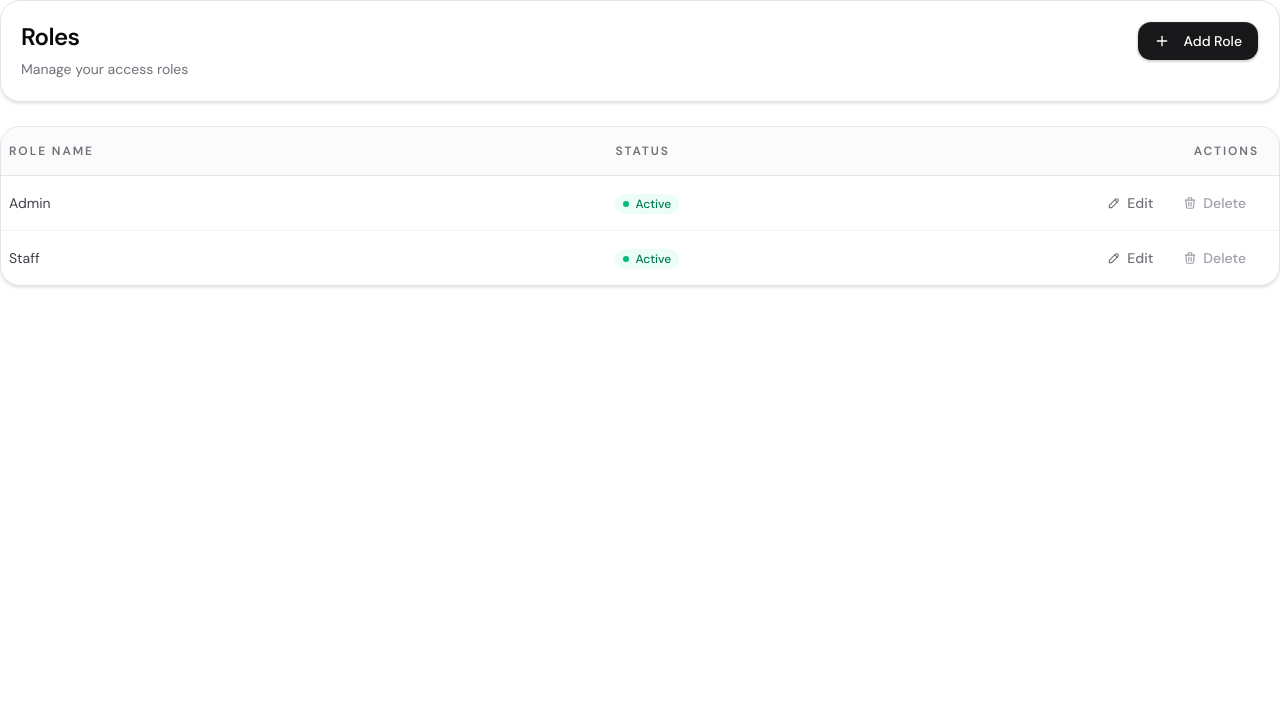
RolesModule › opens create dialog on "Add Role" click
Click the button "Add Role": (1198, 41) [1137, 21, 1259, 61]
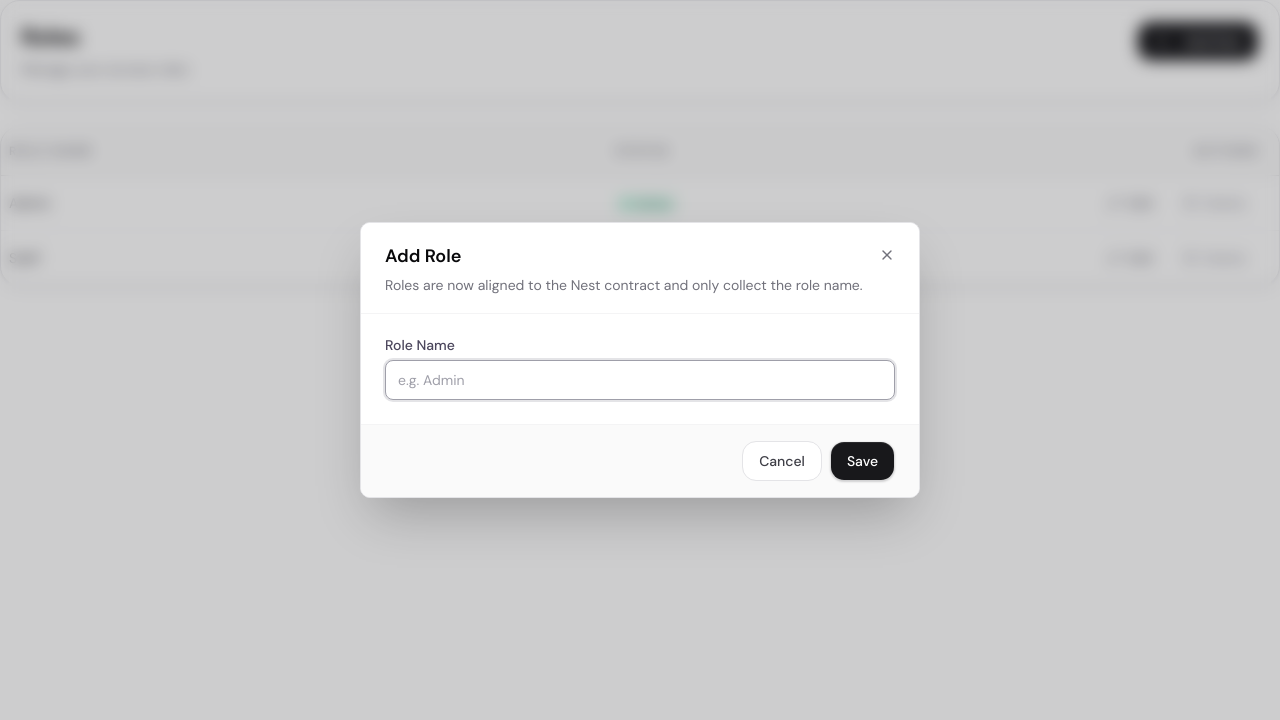
Now the dialog is shown, box [360, 222, 920, 498]
